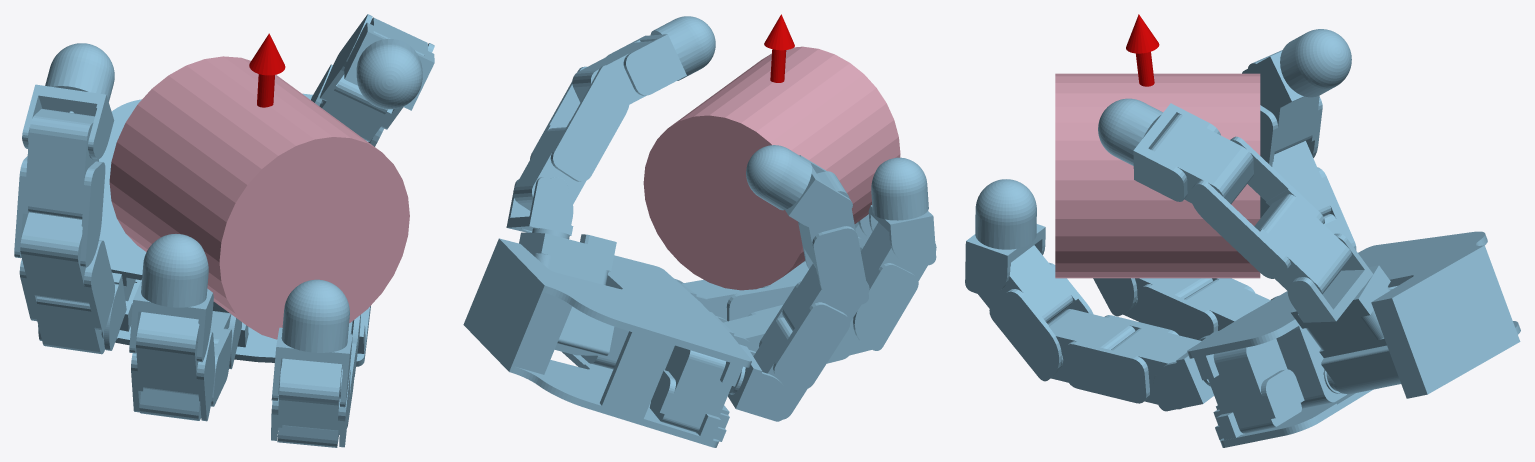
3 renders of one model, left to right at view 1: azimuth 30°, elevation 25°; view 2: azimuth 150°, elevation 25°; view 3: azimuth 270°, elevation 25°, orthographic. The views are drawn at different scales.
Parts seen in each view (by area): view 1: world, cylinder_medium.stl; view 2: world, cylinder_medium.stl; view 3: world, cylinder_medium.stl.
Boxes of the visible parts, x1,y1,x2,y2 form: world: [14, 14, 434, 447]; cylinder_medium.stl: [109, 56, 409, 339]; world: [463, 14, 936, 447]; cylinder_medium.stl: [643, 46, 900, 290]; world: [965, 14, 1520, 447]; cylinder_medium.stl: [1055, 73, 1260, 278].
Size of the model in its own units: 0.1673 by 0.1603 by 0.2171.
